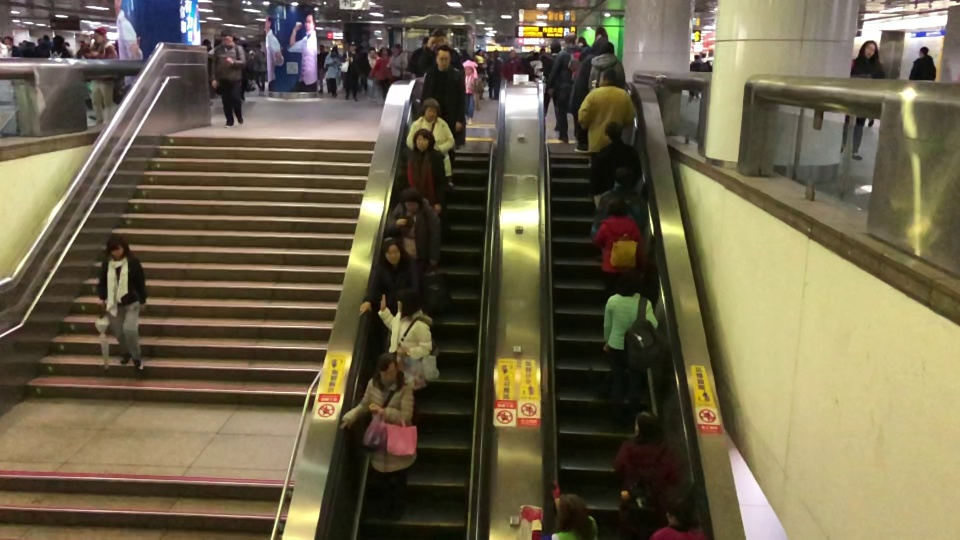person_head: (557, 492, 588, 530), (664, 498, 693, 526), (376, 352, 399, 384), (396, 286, 421, 314), (633, 410, 659, 435), (106, 232, 129, 258), (381, 236, 402, 264), (400, 187, 423, 211), (413, 128, 435, 152), (617, 273, 638, 295), (420, 98, 440, 121), (612, 165, 632, 187), (605, 197, 627, 217), (436, 45, 451, 70), (598, 68, 617, 86), (604, 121, 623, 139), (861, 39, 878, 59), (596, 40, 615, 54), (93, 27, 107, 43), (220, 29, 234, 44), (51, 34, 65, 46), (549, 39, 561, 53), (564, 34, 577, 45), (918, 46, 930, 56), (392, 44, 401, 56), (349, 42, 357, 51), (462, 52, 470, 61), (368, 46, 376, 54), (381, 47, 388, 55), (509, 49, 516, 57), (332, 46, 338, 54), (693, 54, 700, 60), (319, 44, 324, 51)
person_vbox: (340, 352, 417, 523), (612, 410, 683, 536), (603, 273, 659, 428), (95, 233, 148, 371), (420, 45, 465, 188), (357, 236, 422, 318), (577, 67, 637, 155), (591, 197, 646, 293), (588, 121, 642, 210), (840, 39, 879, 162), (589, 165, 648, 243), (390, 187, 442, 274), (405, 98, 455, 181), (377, 286, 433, 360), (209, 29, 248, 129), (547, 34, 580, 143), (83, 27, 118, 129), (402, 129, 444, 212), (587, 40, 626, 92), (543, 39, 561, 131), (370, 47, 392, 103), (462, 51, 478, 127), (342, 42, 360, 103), (323, 45, 342, 98), (908, 47, 937, 81), (44, 34, 73, 59), (388, 44, 408, 80), (365, 47, 378, 102), (501, 49, 523, 81), (688, 53, 701, 101), (318, 46, 327, 94)
